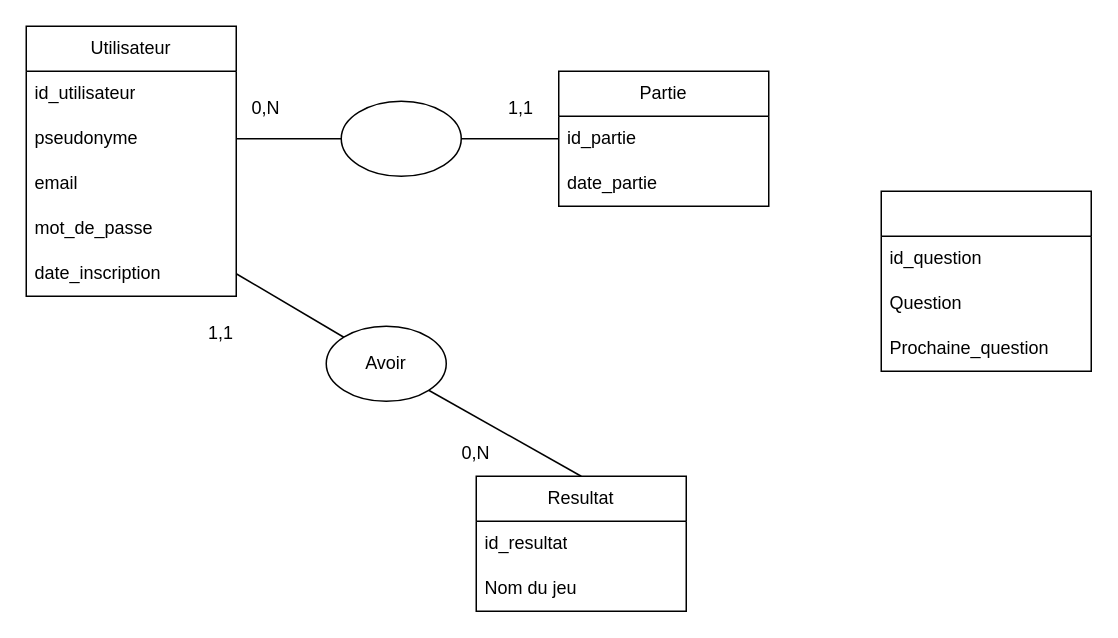
The diagram is 1118 pixels wide and 638 high, and some of its shapes have lost their labels. Here are the shapes that lost their labels. From the top down, the box of each, then its label:
(340, 100, 461, 176): JOUER
(880, 190, 1091, 371): Questions
